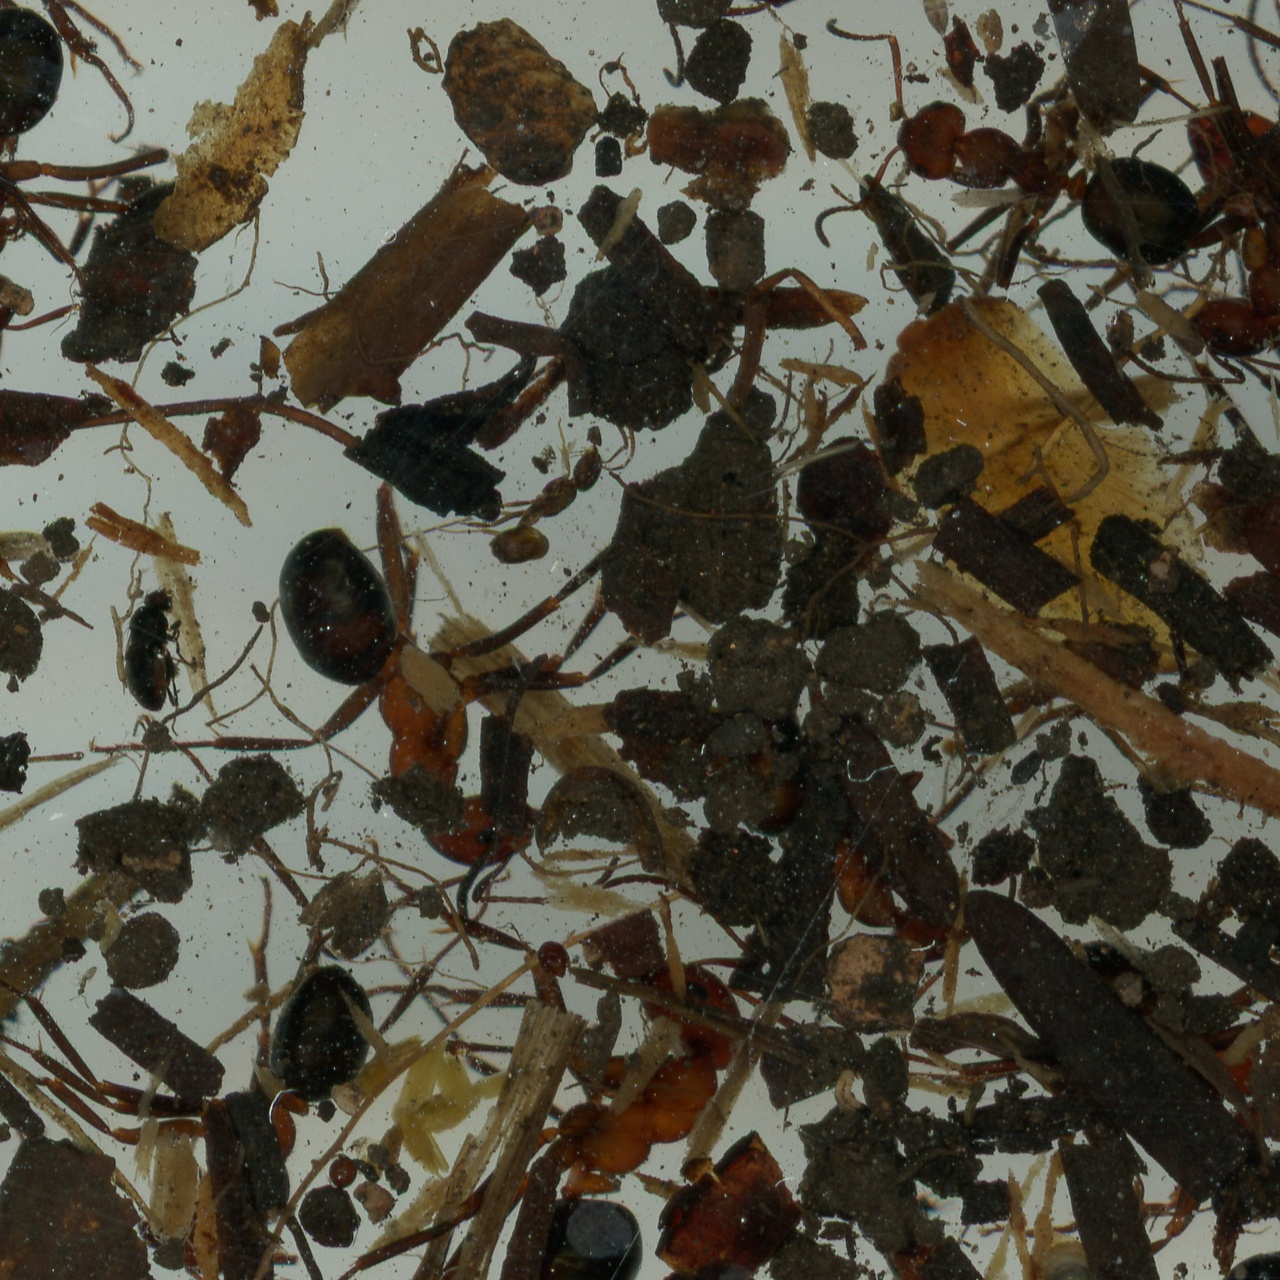arthropod: (267, 515, 642, 906), (809, 9, 1232, 294), (495, 898, 788, 1280), (962, 969, 1280, 1280), (358, 0, 993, 152), (0, 948, 381, 1192), (1113, 0, 1280, 462), (1096, 6, 1280, 423), (0, 0, 175, 352), (416, 371, 651, 615), (967, 1182, 1280, 1280), (0, 0, 150, 187), (851, 0, 1216, 57), (116, 576, 193, 745), (1029, 1222, 1104, 1280), (900, 0, 964, 41), (68, 965, 101, 1010)
